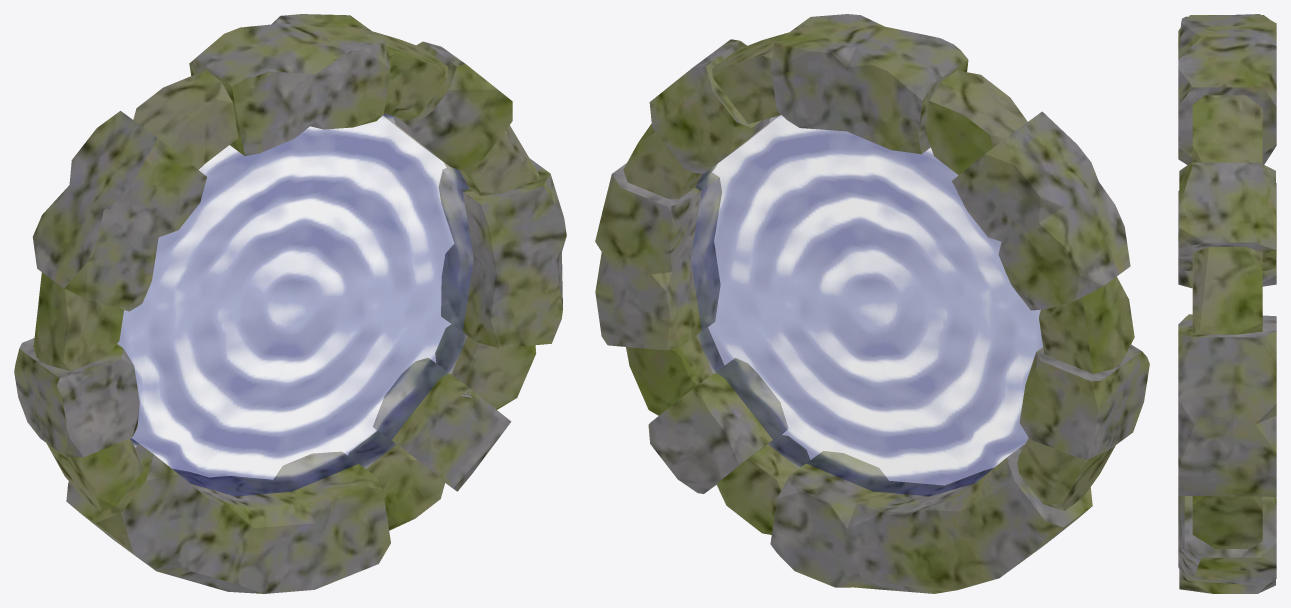
The picture shows the model from 3 angles, left to right: view 1: azimuth 30°, elevation 25°; view 2: azimuth 150°, elevation 25°; view 3: azimuth 270°, elevation 25°; orthographic projection.
Parts seen in each view (by area): view 1: BrickLarge_low, PortalSurface_low, BrickSmall_low; view 2: BrickLarge_low, PortalSurface_low, BrickSmall_low; view 3: BrickLarge_low, BrickSmall_low.
Part boxes in pixels (x1,y1,x2,y2): BrickLarge_low: (14,14,566,593); PortalSurface_low: (117,113,473,496); BrickSmall_low: (33,31,539,530); BrickLarge_low: (595,14,1149,593); PortalSurface_low: (690,115,1042,496); BrickSmall_low: (623,32,1134,534); BrickLarge_low: (1178,14,1276,593); BrickSmall_low: (1192,95,1262,548).
Bounding box in the file's own units: 2.66 × 2.68 × 0.4505.
3 materials, 3 textured.
